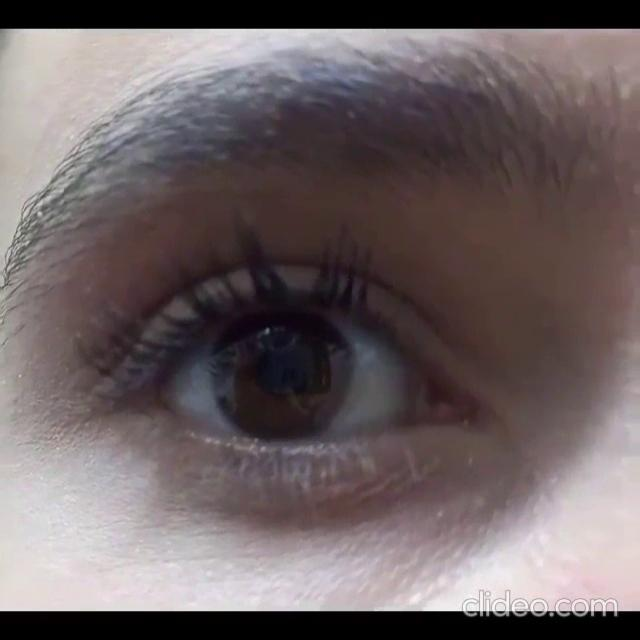iris: (211, 313, 351, 438)
pupille: (260, 346, 308, 394)
